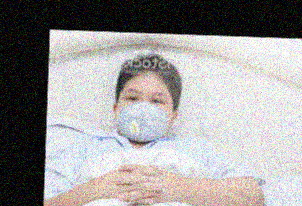with_mask: (115, 84, 172, 144)
